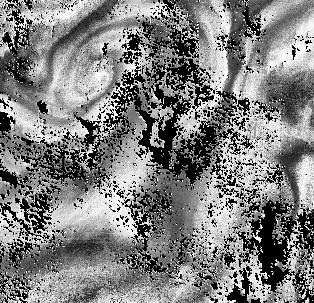CE: (41, 22, 124, 111)
